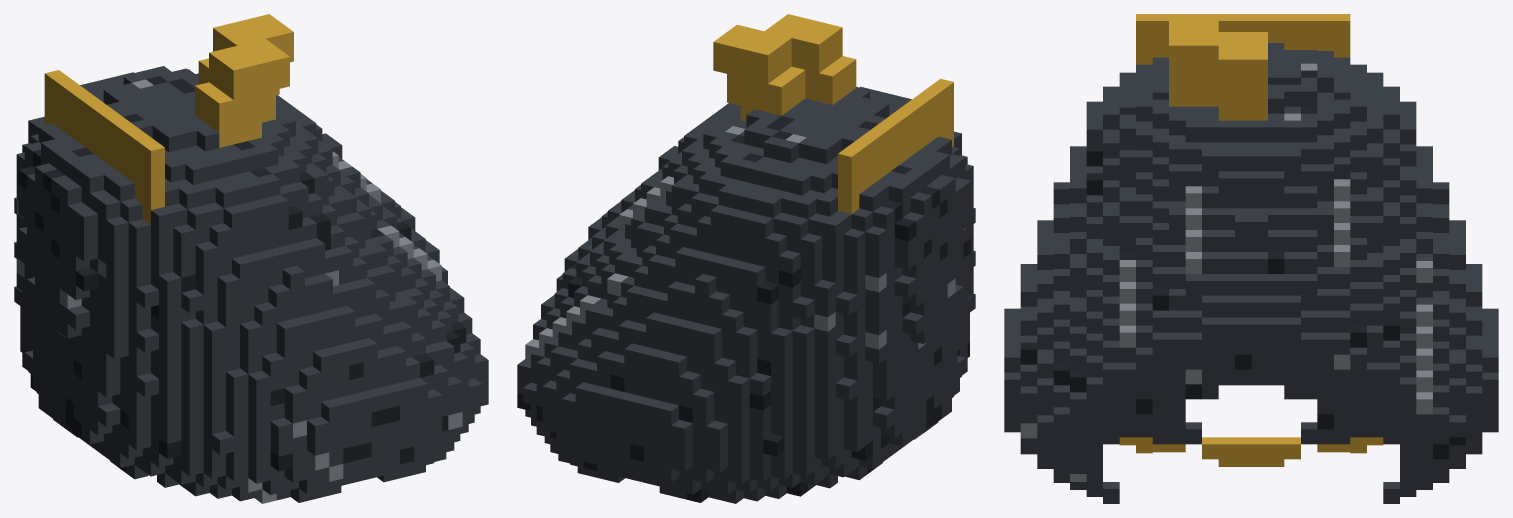
Rendered from plate_epic_shoulder_L.glb.
3 renders of one model, left to right at view 1: azimuth 30°, elevation 25°; view 2: azimuth 150°, elevation 25°; view 3: azimuth 270°, elevation 25°, orthographic. The views are drawn at different scales.
Visible parts, largest first — view 1: plate_epic_shoulder_L; view 2: plate_epic_shoulder_L; view 3: plate_epic_shoulder_L.
Part boxes in pixels (x1,y1,x2,y2): plate_epic_shoulder_L: (14,14,488,503); plate_epic_shoulder_L: (517,14,975,503); plate_epic_shoulder_L: (1004,14,1498,503).
Bounding box in the file's own units: 0.288 × 0.312 × 0.36.
